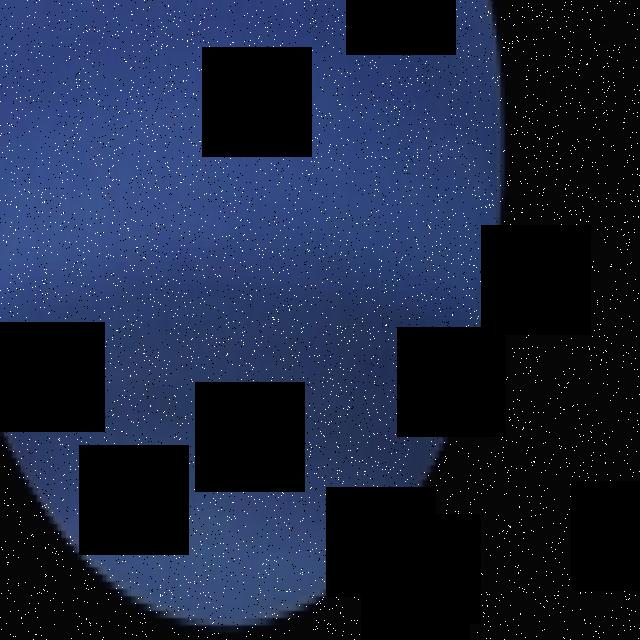Neptune: (1, 0, 504, 632)
